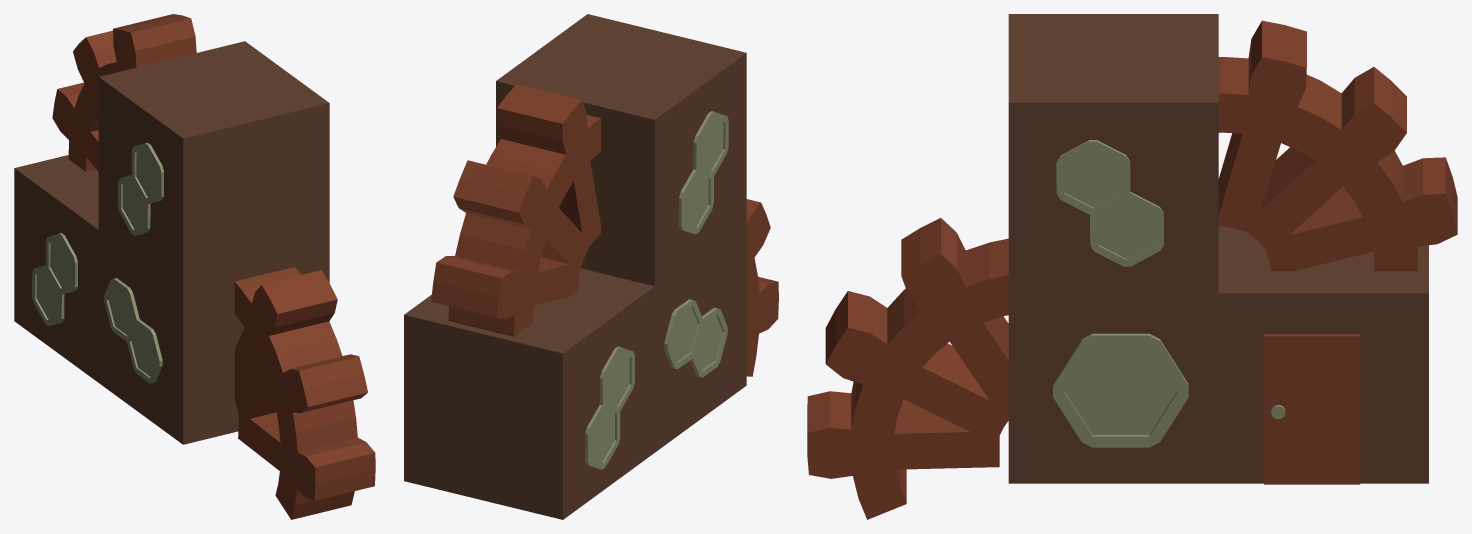
The model's file is Building2.fbx.
3 views of the same model, side by side, from view 1: azimuth 30°, elevation 25°; view 2: azimuth 150°, elevation 25°; view 3: azimuth 270°, elevation 25° (orthographic). The views are drawn at different scales.
Parts seen in each view (by area): view 1: house.003; view 2: house.003; view 3: house.003.
Boxes of the visible parts, left/top/right/bottom form: house.003: left=14, top=14, right=375, bottom=519; house.003: left=404, top=14, right=778, bottom=519; house.003: left=807, top=14, right=1457, bottom=519.
Size of the model in its own units: 311 by 711 by 908.
